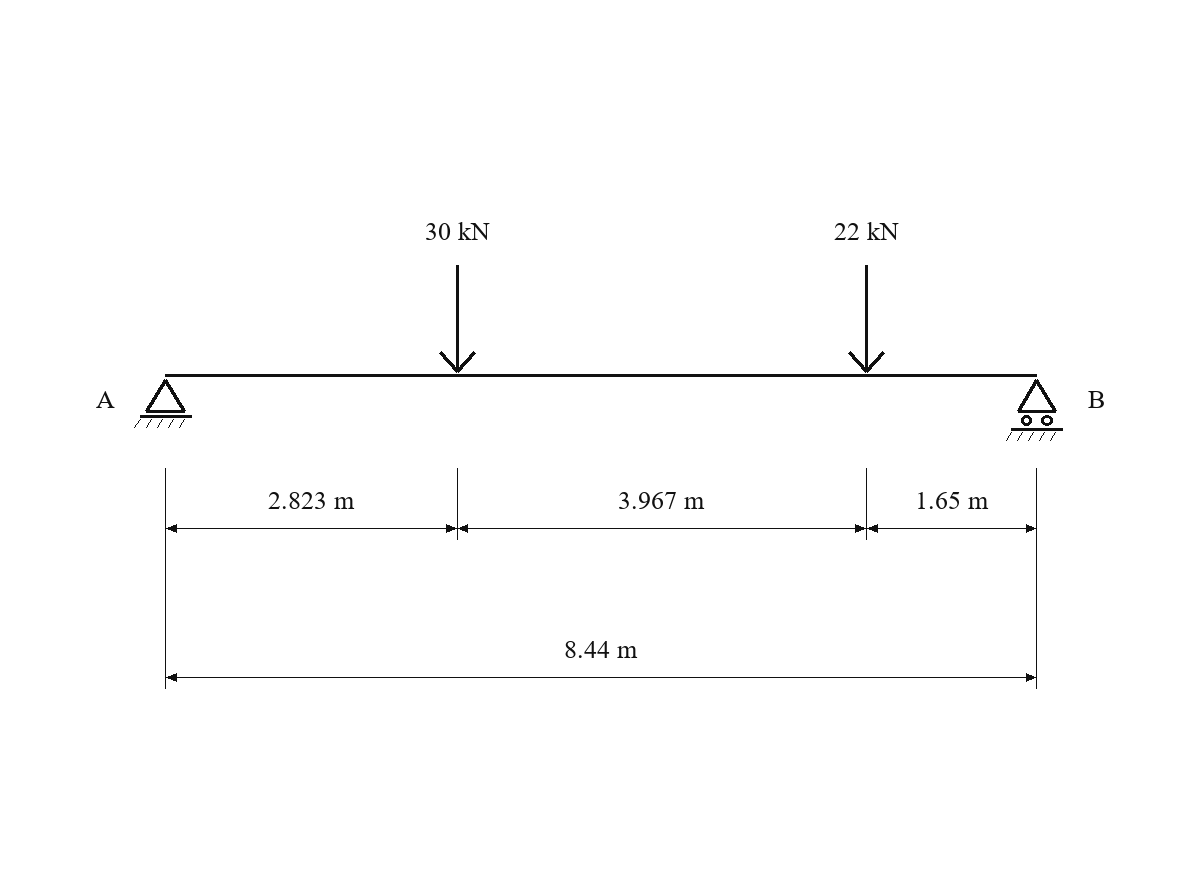pin_support: (134, 379, 192, 428)
point_load: (439, 265, 476, 373), (848, 265, 885, 373)
roller_support: (1006, 379, 1063, 441)
